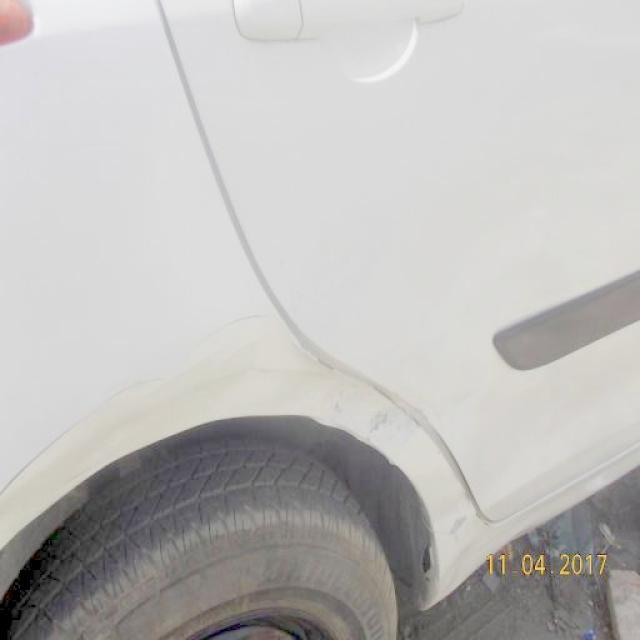car damage: (1, 310, 490, 599)
